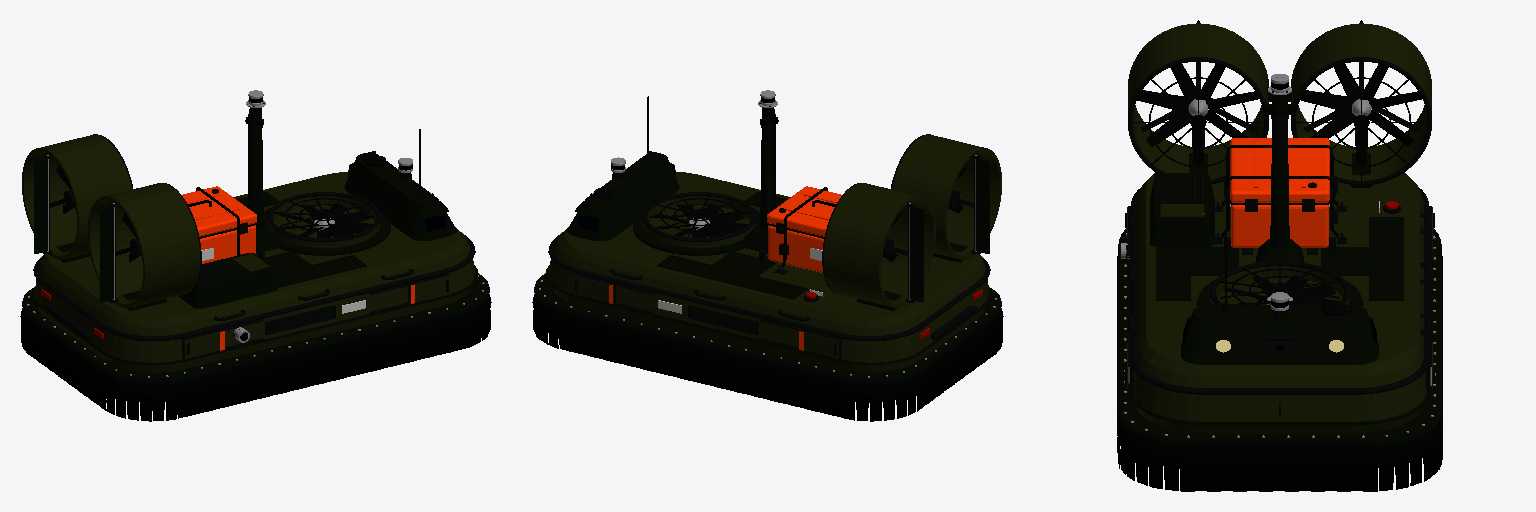
robot.urdf — hovercraft_v3:
<?xml version="1.0"?>
<!-- GENERATED by gen_description_v3.py from link_frames.json. Do not edit by hand. -->
<robot name="hovercraft_v3">
  <link name="base_link"><inertial><origin xyz="0.273369 0 -0.08" rpy="0 0 0"/><mass value="287.4"/><inertia ixx="53.4947" ixy="0" ixz="0" iyy="186.274" iyz="0" izz="232.104"/></inertial><visual><geometry><mesh filename="package://tidal_vehicle_description/models/hovercraft_v3/meshes/hull.dae"/></geometry></visual><collision><origin xyz="0 0 0.01" rpy="0 0 0"/><geometry><box size="2.76 1.44 0.4"/></geometry></collision></link>
  <link name="skirt"><inertial><origin xyz="0 0 0" rpy="0 0 0"/><mass value="22.0"/><inertia ixx="5.9994" ixy="0" ixz="0" iyy="14.6388" iyz="0" izz="20.5194"/></inertial><visual><geometry><mesh filename="package://tidal_vehicle_description/models/hovercraft_v3/meshes/skirt.dae"/></geometry></visual><collision><origin xyz="0 0 0" rpy="0 0 0"/><geometry><box size="2.82 1.8 0.18"/></geometry></collision><collision><origin xyz="1.41 0 0" rpy="1.5708 0 0"/><geometry><cylinder radius="0.09" length="1.8"/></geometry></collision><collision><origin xyz="-1.41 0 0" rpy="1.5708 0 0"/><geometry><cylinder radius="0.09" length="1.8"/></geometry></collision></link>
  <link name="lift_fan"><inertial><origin xyz="0 0 0" rpy="0 0 0"/><mass value="15.0"/><inertia ixx="0.42536" ixy="0" ixz="0" iyy="0.42536" iyz="0" izz="0.84672"/></inertial><visual><geometry><mesh filename="package://tidal_vehicle_description/models/hovercraft_v3/meshes/lift_fan.dae"/></geometry></visual><collision><origin xyz="0 0 0" rpy="0 0 0"/><geometry><cylinder radius="0.336" length="0.04"/></geometry></collision></link>
  <link name="thrust_fan_left"><inertial><origin xyz="0 0 0" rpy="0 0 0"/><mass value="14.0"/><inertia ixx="0.8575" ixy="0" ixz="0" iyy="0.430617" iyz="0" izz="0.430617"/></inertial><visual><geometry><mesh filename="package://tidal_vehicle_description/models/hovercraft_v3/meshes/thrust_fan_left.dae"/></geometry></visual><collision><origin xyz="0 0 0" rpy="0 1.5708 0"/><geometry><cylinder radius="0.35" length="0.04"/></geometry></collision></link>
  <link name="thrust_fan_right"><inertial><origin xyz="0 0 0" rpy="0 0 0"/><mass value="14.0"/><inertia ixx="0.8575" ixy="0" ixz="0" iyy="0.430617" iyz="0" izz="0.430617"/></inertial><visual><geometry><mesh filename="package://tidal_vehicle_description/models/hovercraft_v3/meshes/thrust_fan_right.dae"/></geometry></visual><collision><origin xyz="0 0 0" rpy="0 1.5708 0"/><geometry><cylinder radius="0.35" length="0.04"/></geometry></collision></link>
  <link name="rudder_left"><inertial><origin xyz="-0.048 0 0" rpy="0 0 0"/><mass value="2.0"/><inertia ixx="0.0816907" ixy="0" ixz="0" iyy="0.0840667" iyz="0" izz="0.002424"/></inertial><visual><geometry><mesh filename="package://tidal_vehicle_description/models/hovercraft_v3/meshes/rudder_left.dae"/></geometry></visual><collision><origin xyz="-0.048 0 0" rpy="0 0 0"/><geometry><box size="0.12 0.012 0.7"/></geometry></collision></link>
  <link name="rudder_right"><inertial><origin xyz="-0.048 0 0" rpy="0 0 0"/><mass value="2.0"/><inertia ixx="0.0816907" ixy="0" ixz="0" iyy="0.0840667" iyz="0" izz="0.002424"/></inertial><visual><geometry><mesh filename="package://tidal_vehicle_description/models/hovercraft_v3/meshes/rudder_right.dae"/></geometry></visual><collision><origin xyz="-0.048 0 0" rpy="0 0 0"/><geometry><box size="0.12 0.012 0.7"/></geometry></collision></link>
  <link name="track_left"><inertial><origin xyz="0 0 0" rpy="0 0 0"/><mass value="35.0"/><inertia ixx="0.527333" ixy="0" ixz="0" iyy="8.65783" iyz="0" izz="8.72783"/></inertial><visual><geometry><mesh filename="package://tidal_vehicle_description/models/hovercraft_v3/meshes/track_left.dae"/></geometry></visual><collision><origin xyz="0 0 0" rpy="0 0 0"/><geometry><box size="1.7 0.32 0.28"/></geometry></collision><collision><origin xyz="0.85 0 0" rpy="1.5708 0 0"/><geometry><cylinder radius="0.14" length="0.32"/></geometry></collision><collision><origin xyz="-0.85 0 0" rpy="1.5708 0 0"/><geometry><cylinder radius="0.14" length="0.32"/></geometry></collision></link>
  <link name="track_right"><inertial><origin xyz="0 0 0" rpy="0 0 0"/><mass value="35.0"/><inertia ixx="0.527333" ixy="0" ixz="0" iyy="8.65783" iyz="0" izz="8.72783"/></inertial><visual><geometry><mesh filename="package://tidal_vehicle_description/models/hovercraft_v3/meshes/track_right.dae"/></geometry></visual><collision><origin xyz="0 0 0" rpy="0 0 0"/><geometry><box size="1.7 0.32 0.28"/></geometry></collision><collision><origin xyz="0.85 0 0" rpy="1.5708 0 0"/><geometry><cylinder radius="0.14" length="0.32"/></geometry></collision><collision><origin xyz="-0.85 0 0" rpy="1.5708 0 0"/><geometry><cylinder radius="0.14" length="0.32"/></geometry></collision></link>
  <link name="puff_bow_left"><inertial><origin xyz="0 0 0" rpy="0 0 0"/><mass value="0.6"/><inertia ixx="0.0009818" ixy="0" ixz="0" iyy="0.0057232" iyz="0" izz="0.004745"/></inertial><visual><geometry><mesh filename="package://tidal_vehicle_description/models/hovercraft_v3/meshes/puff_bow_left.dae"/></geometry></visual><collision><origin xyz="0 0 0" rpy="0 0 0"/><geometry><box size="0.308 0.006 0.14"/></geometry></collision></link>
  <link name="puff_bow_right"><inertial><origin xyz="0 0 0" rpy="0 0 0"/><mass value="0.6"/><inertia ixx="0.0009818" ixy="0" ixz="0" iyy="0.0057232" iyz="0" izz="0.004745"/></inertial><visual><geometry><mesh filename="package://tidal_vehicle_description/models/hovercraft_v3/meshes/puff_bow_right.dae"/></geometry></visual><collision><origin xyz="0 0 0" rpy="0 0 0"/><geometry><box size="0.308 0.006 0.14"/></geometry></collision></link>
  <link name="puff_stern_left"><inertial><origin xyz="0 0 0" rpy="0 0 0"/><mass value="0.6"/><inertia ixx="0.0009818" ixy="0" ixz="0" iyy="0.0057232" iyz="0" izz="0.004745"/></inertial><visual><geometry><mesh filename="package://tidal_vehicle_description/models/hovercraft_v3/meshes/puff_stern_left.dae"/></geometry></visual><collision><origin xyz="0 0 0" rpy="0 0 0"/><geometry><box size="0.308 0.006 0.14"/></geometry></collision></link>
  <link name="puff_stern_right"><inertial><origin xyz="0 0 0" rpy="0 0 0"/><mass value="0.6"/><inertia ixx="0.0009818" ixy="0" ixz="0" iyy="0.0057232" iyz="0" izz="0.004745"/></inertial><visual><geometry><mesh filename="package://tidal_vehicle_description/models/hovercraft_v3/meshes/puff_stern_right.dae"/></geometry></visual><collision><origin xyz="0 0 0" rpy="0 0 0"/><geometry><box size="0.308 0.006 0.14"/></geometry></collision></link>
  <link name="payload_box"><inertial><origin xyz="0 0 0.175" rpy="0 0 0"/><mass value="100.0"/><inertia ixx="3.45083" ixy="0" ixz="0" iyy="5.34083" iyz="0" izz="6.75"/></inertial><visual><geometry><mesh filename="package://tidal_vehicle_description/models/hovercraft_v3/meshes/payload_box.dae"/></geometry></visual><collision><origin xyz="0 0 0.175" rpy="0 0 0"/><geometry><box size="0.72 0.54 0.35"/></geometry></collision></link>
  <link name="lidar_link"><inertial><origin xyz="0 0 0" rpy="0 0 0"/><mass value="1.0"/><inertia ixx="0.00109147" ixy="0" ixz="0" iyy="0.00109147" iyz="0" izz="0.00132612"/></inertial><visual><geometry><mesh filename="package://tidal_vehicle_description/models/hovercraft_v3/meshes/lidar.dae"/></geometry></visual><collision><origin xyz="0 0 0" rpy="0 0 0"/><geometry><cylinder radius="0.0515" length="0.0717"/></geometry></collision></link>
  <link name="camera_link"><inertial><origin xyz="-0.055 0 0" rpy="0 0 0"/><mass value="0.2"/><inertia ixx="0.000295417" ixy="0" ixz="0" iyy="0.0001875" iyz="0" izz="0.000295417"/></inertial><visual><geometry><mesh filename="package://tidal_vehicle_description/models/hovercraft_v3/meshes/camera.dae"/></geometry></visual><collision><origin xyz="-0.055 0 0" rpy="0 0 0"/><geometry><box size="0.075 0.11 0.075"/></geometry></collision></link>
  <link name="imu_link"/>
  <link name="camera_rear_link"/>
  <joint name="camera_rear_link_joint" type="fixed"><parent link="base_link"/><child link="camera_rear_link"/><origin xyz="-0.075 9.18485e-18 1.16" rpy="0 0.261799 3.14159"/></joint>
  <link name="camera_left_link"/>
  <joint name="camera_left_link_joint" type="fixed"><parent link="base_link"/><child link="camera_left_link"/><origin xyz="4.59243e-18 0.075 1.16" rpy="0 0.261799 1.5708"/></joint>
  <link name="camera_right_link"/>
  <joint name="camera_right_link_joint" type="fixed"><parent link="base_link"/><child link="camera_right_link"/><origin xyz="4.59243e-18 -0.075 1.16" rpy="0 0.261799 -1.5708"/></joint>
  <link name="lidar_front_link"/>
  <joint name="lidar_front_link_joint" type="fixed"><parent link="base_link"/><child link="lidar_front_link"/><origin xyz="1.18 0 0.54" rpy="0 0 0"/></joint>
  <joint name="imu_joint" type="fixed"><parent link="base_link"/><child link="imu_link"/><origin xyz="0 0 0" rpy="0 0 0"/></joint>
  <joint name="skirt_joint" type="fixed"><parent link="base_link"/><child link="skirt"/><origin xyz="0 0 -0.27" rpy="0 0 0"/></joint>
  <joint name="lift_fan_joint" type="continuous"><parent link="base_link"/><child link="lift_fan"/><origin xyz="0.54 0 0.24" rpy="0 0 0"/><axis xyz="0 0 1"/></joint>
  <joint name="thrust_fan_left_joint" type="continuous"><parent link="base_link"/><child link="thrust_fan_left"/><origin xyz="-1.1 0.45 0.66" rpy="0 0 0"/><axis xyz="1 0 0"/></joint>
  <joint name="thrust_fan_right_joint" type="continuous"><parent link="base_link"/><child link="thrust_fan_right"/><origin xyz="-1.1 -0.45 0.66" rpy="0 0 0"/><axis xyz="1 0 0"/></joint>
  <joint name="rudder_left_joint" type="revolute"><parent link="base_link"/><child link="rudder_left"/><origin xyz="-1.38 0.45 0.66" rpy="0 0 0"/><axis xyz="0 0 1"/><limit lower="-0.5236" upper="0.5236" effort="100" velocity="2"/></joint>
  <joint name="rudder_right_joint" type="revolute"><parent link="base_link"/><child link="rudder_right"/><origin xyz="-1.38 -0.45 0.66" rpy="0 0 0"/><axis xyz="0 0 1"/><limit lower="-0.5236" upper="0.5236" effort="100" velocity="2"/></joint>
  <joint name="track_left_joint" type="prismatic"><parent link="base_link"/><child link="track_left"/><origin xyz="0 0.5 -0.36" rpy="0 0 0"/><axis xyz="0 0 1"/><limit lower="-0.02" upper="0.27" effort="10000" velocity="0.2"/></joint>
  <joint name="track_right_joint" type="prismatic"><parent link="base_link"/><child link="track_right"/><origin xyz="0 -0.5 -0.36" rpy="0 0 0"/><axis xyz="0 0 1"/><limit lower="-0.02" upper="0.27" effort="10000" velocity="0.2"/></joint>
  <joint name="puff_bow_left_joint" type="prismatic"><parent link="base_link"/><child link="puff_bow_left"/><origin xyz="0.888 0.84 0.01" rpy="0 0 0"/><axis xyz="-1 0 0"/><limit lower="-0.02" upper="0.332" effort="20" velocity="1.0"/></joint>
  <joint name="puff_bow_right_joint" type="prismatic"><parent link="base_link"/><child link="puff_bow_right"/><origin xyz="0.888 -0.84 0.01" rpy="0 0 0"/><axis xyz="-1 0 0"/><limit lower="-0.02" upper="0.332" effort="20" velocity="1.0"/></joint>
  <joint name="puff_stern_left_joint" type="prismatic"><parent link="base_link"/><child link="puff_stern_left"/><origin xyz="-0.888 0.84 0.01" rpy="0 0 0"/><axis xyz="1 0 0"/><limit lower="-0.02" upper="0.332" effort="20" velocity="1.0"/></joint>
  <joint name="puff_stern_right_joint" type="prismatic"><parent link="base_link"/><child link="puff_stern_right"/><origin xyz="-0.888 -0.84 0.01" rpy="0 0 0"/><axis xyz="1 0 0"/><limit lower="-0.02" upper="0.332" effort="20" velocity="1.0"/></joint>
  <joint name="payload_box_joint" type="fixed"><parent link="base_link"/><child link="payload_box"/><origin xyz="-0.504 0 0.24" rpy="0 0 0"/></joint>
  <joint name="lidar_joint" type="fixed"><parent link="base_link"/><child link="lidar_link"/><origin xyz="0 0 1.32" rpy="0 0 0"/></joint>
  <joint name="camera_joint" type="fixed"><parent link="base_link"/><child link="camera_link"/><origin xyz="1.284 0 0.3" rpy="0 0 0"/></joint>
</robot>

--- Render facts (derived) ---
The picture shows the robot from 3 angles, left to right: view 1: azimuth 30°, elevation 25°; view 2: azimuth 150°, elevation 25°; view 3: azimuth 270°, elevation 25°; orthographic projection.
Robot: hovercraft_v3 — 21 links, 20 joints (2 revolute, 3 continuous, 6 prismatic, 9 fixed); root link base_link; default pose: all joints at 0.
Visible links, largest first — view 1: base_link, skirt, payload_box, rudder_left, rudder_right, lift_fan, puff_stern_right, puff_bow_right; view 2: base_link, skirt, payload_box, rudder_left, rudder_right, lift_fan, puff_stern_left, puff_bow_left; view 3: base_link, skirt, payload_box, thrust_fan_right, thrust_fan_left, lift_fan.
Link boxes in pixels (<box>): base_link: <box>22,100,489,383</box>; skirt: <box>20,294,491,421</box>; payload_box: <box>182,186,257,263</box>; rudder_left: <box>34,155,49,253</box>; rudder_right: <box>100,203,115,302</box>; lift_fan: <box>279,203,372,237</box>; puff_stern_right: <box>185,331,224,358</box>; puff_bow_right: <box>410,276,449,303</box>; base_link: <box>534,96,1001,383</box>; skirt: <box>532,294,1003,421</box>; payload_box: <box>766,186,841,272</box>; rudder_left: <box>908,203,923,302</box>; rudder_right: <box>974,155,989,253</box>; lift_fan: <box>654,203,747,237</box>; puff_stern_left: <box>799,331,838,358</box>; puff_bow_left: <box>574,276,613,303</box>; base_link: <box>1118,23,1441,445</box>; skirt: <box>1117,256,1442,491</box>; payload_box: <box>1227,138,1332,247</box>; thrust_fan_right: <box>1137,64,1258,165</box>; thrust_fan_left: <box>1300,64,1421,165</box>; lift_fan: <box>1224,274,1339,304</box>.
Bounding box of the posed robot: 3 × 1.8 × 1.86 m (x, y, z).
Meshes: 16 distinct files referenced, 16 mesh visuals loaded (16 Collada DAE).
